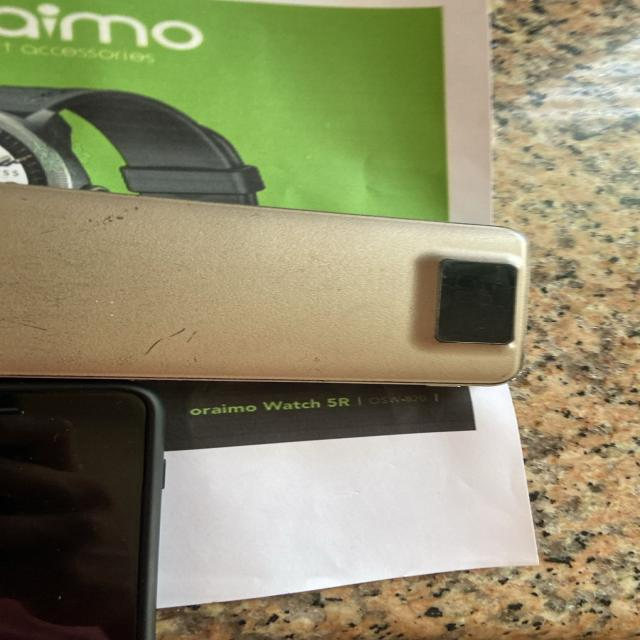Oraimo Watch 5R OSW-820: (185, 388, 455, 419)
